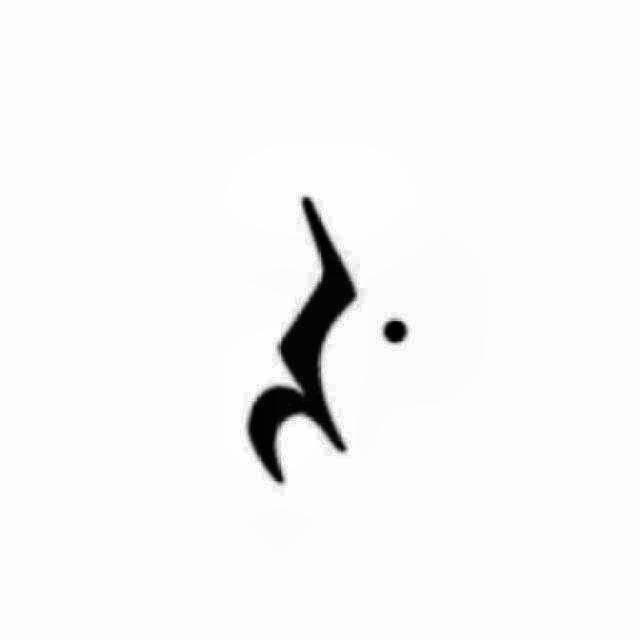Quarter-rest: (228, 183, 428, 513)
